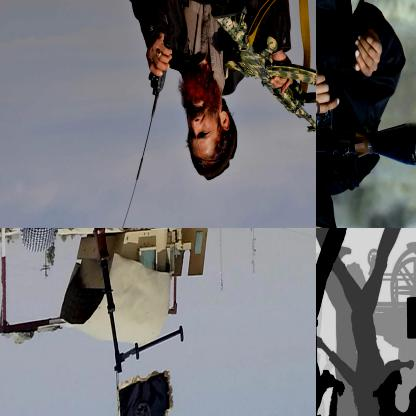rifle: (71, 228, 185, 377), (208, 0, 315, 140), (316, 95, 415, 174)
